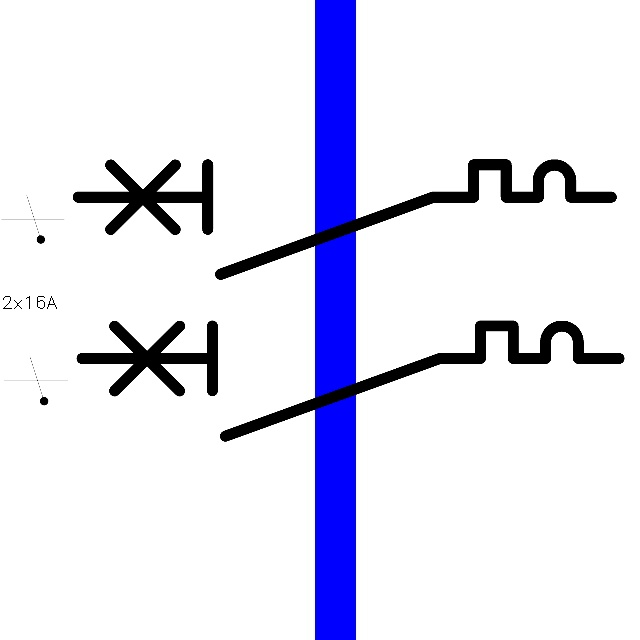interruptor_termomagnetico: (67, 312, 632, 450), (64, 151, 625, 288)
